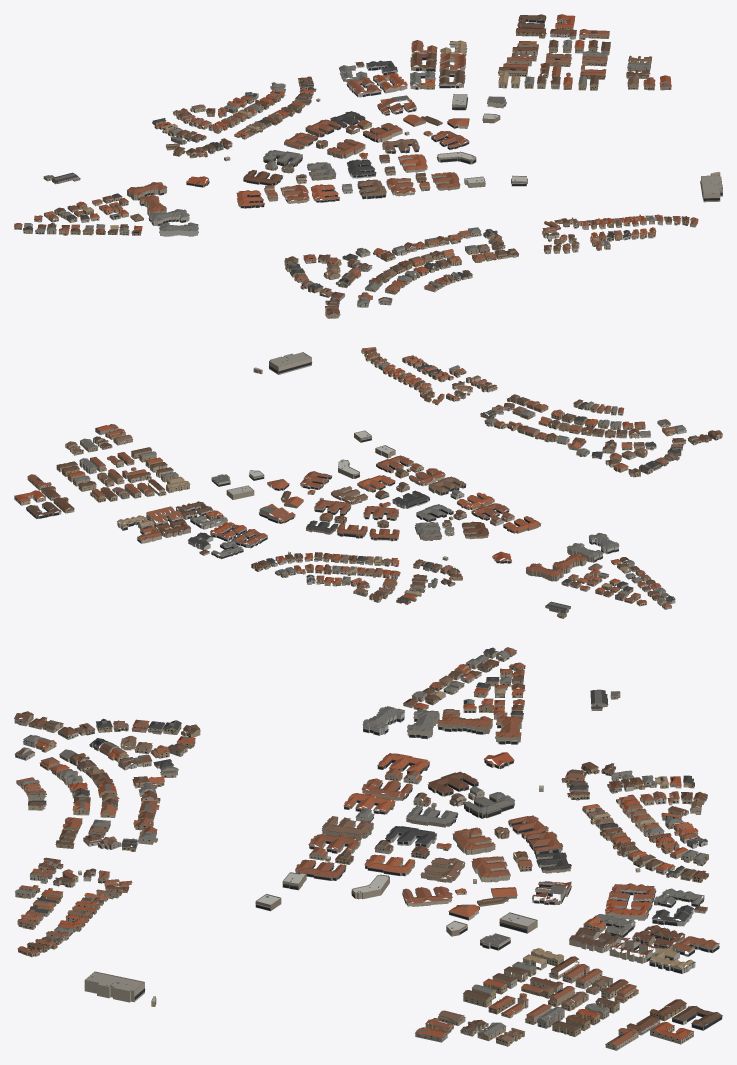
The picture shows the model from 3 angles, top to bottom: view 1: azimuth 30°, elevation 25°; view 2: azimuth 150°, elevation 25°; view 3: azimuth 270°, elevation 25°; orthographic projection. The views are drawn at different scales.
Parts seen in each view (by area): view 1: buildings_r3_c4_lod0; view 2: buildings_r3_c4_lod0; view 3: buildings_r3_c4_lod0.
Part boxes in pixels (<box>): buildings_r3_c4_lod0: <box>14,14,722,318</box>; buildings_r3_c4_lod0: <box>14,347,722,618</box>; buildings_r3_c4_lod0: <box>14,647,722,1050</box>.
Size of the model in its own units: 1135 by 36.65 by 822.
